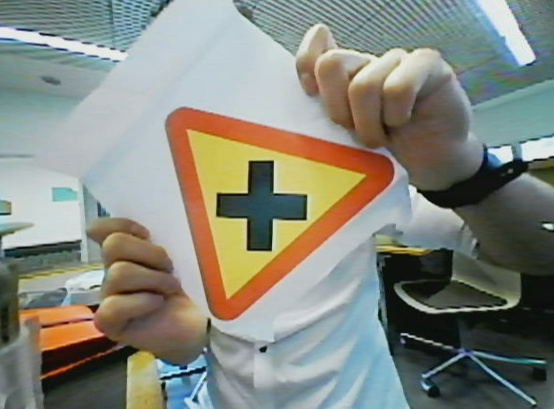junction: (156, 93, 396, 326)
